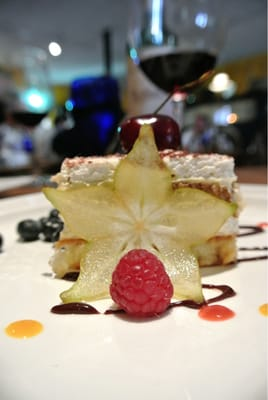sushi: (41, 115, 244, 311), (159, 149, 239, 203)
